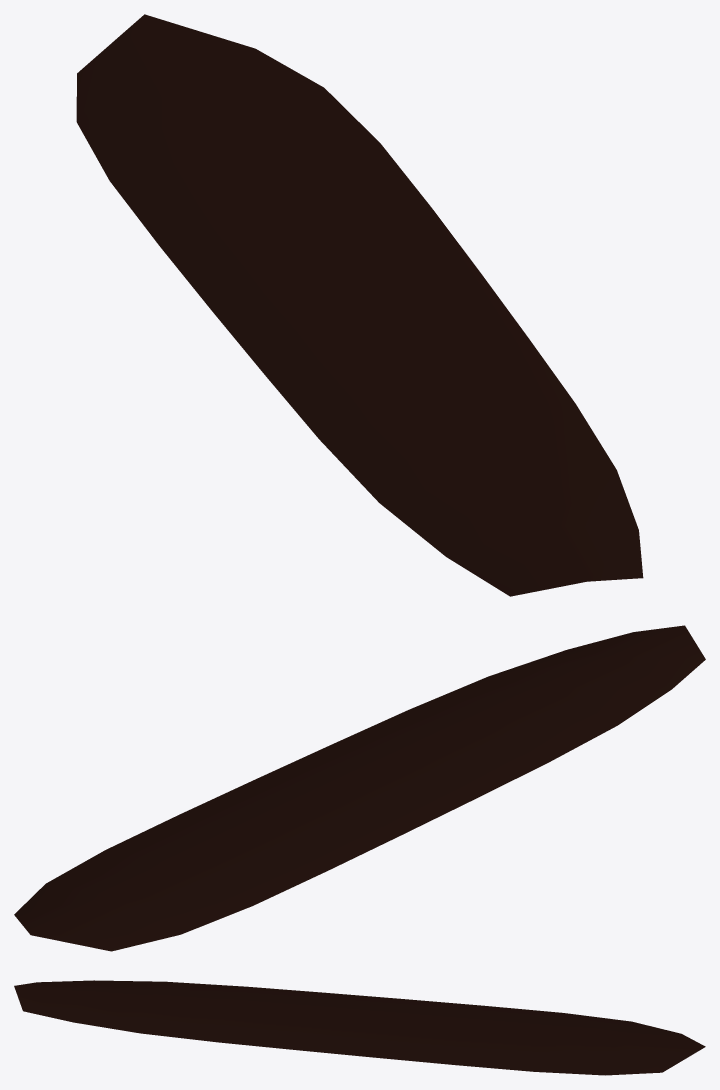
Rendered from finch_feather_tail_primary_004.obj.
3 views of the same model, one above another, from view 1: azimuth 30°, elevation 25°; view 2: azimuth 150°, elevation 25°; view 3: azimuth 270°, elevation 25° (orthographic). The views are drawn at different scales.
Visible parts, largest first — view 1: feather_tail_primary_004; view 2: feather_tail_primary_004; view 3: feather_tail_primary_004.
Boxes of the visible parts, x1,y1,x2,y2 form: feather_tail_primary_004: [76, 14, 643, 596]; feather_tail_primary_004: [14, 625, 705, 951]; feather_tail_primary_004: [14, 980, 705, 1075].
Size of the model in its own units: 0.0163 by 0.000759 by 0.0503.
